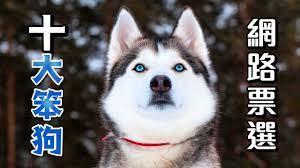dog: (128, 55, 194, 115)
